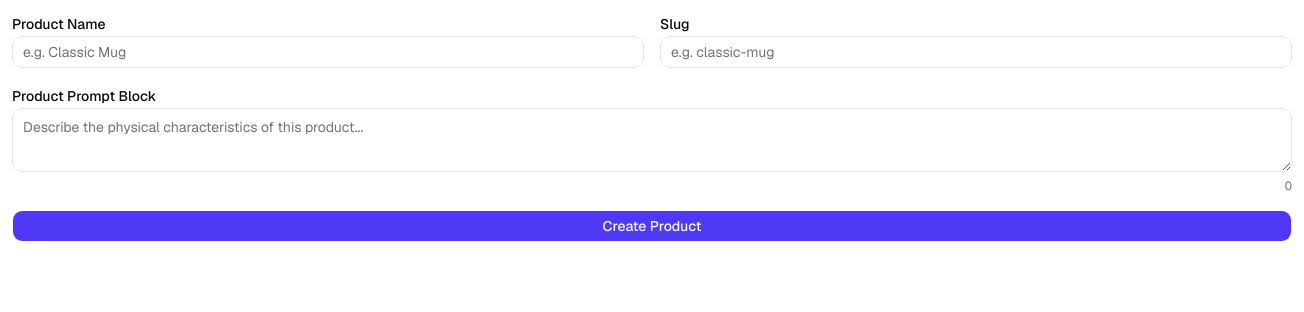
ProductForm › shows validation errors for empty required fields
Click the button "Create Product" at x=652, y=226, box 12,210 -> 1292,242
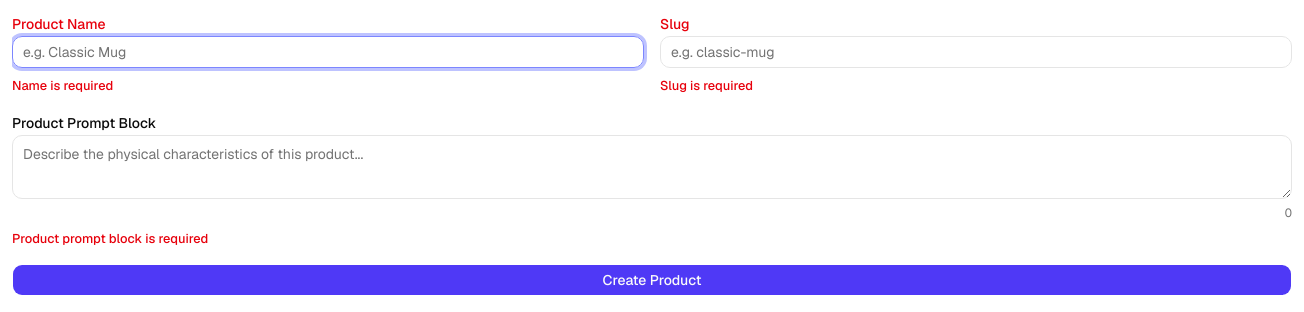
Now the text "Name is required" is shown, box 12,77 -> 113,94
Now the text "Product prompt block is required" is shown, box 12,230 -> 208,247
